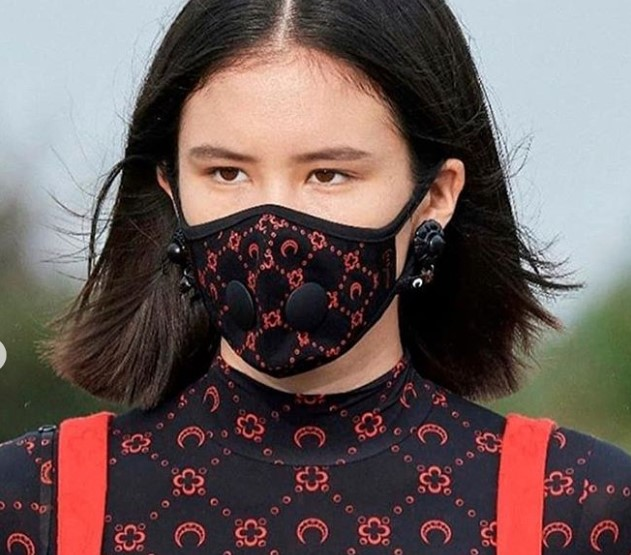face_with_mask: (154, 5, 469, 386)
